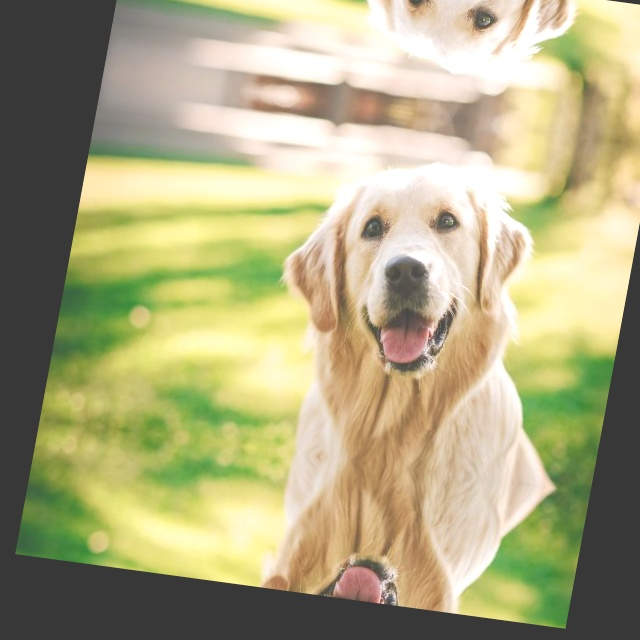dog: (233, 128, 582, 484), (209, 445, 525, 620), (303, 0, 613, 105)
